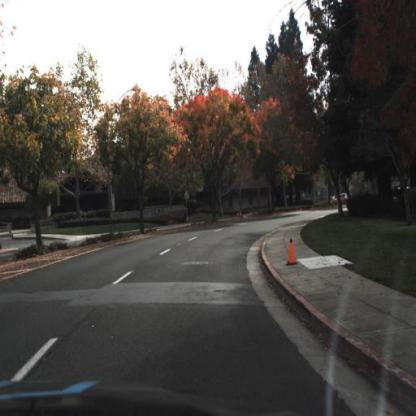car: (332, 191, 349, 207)
